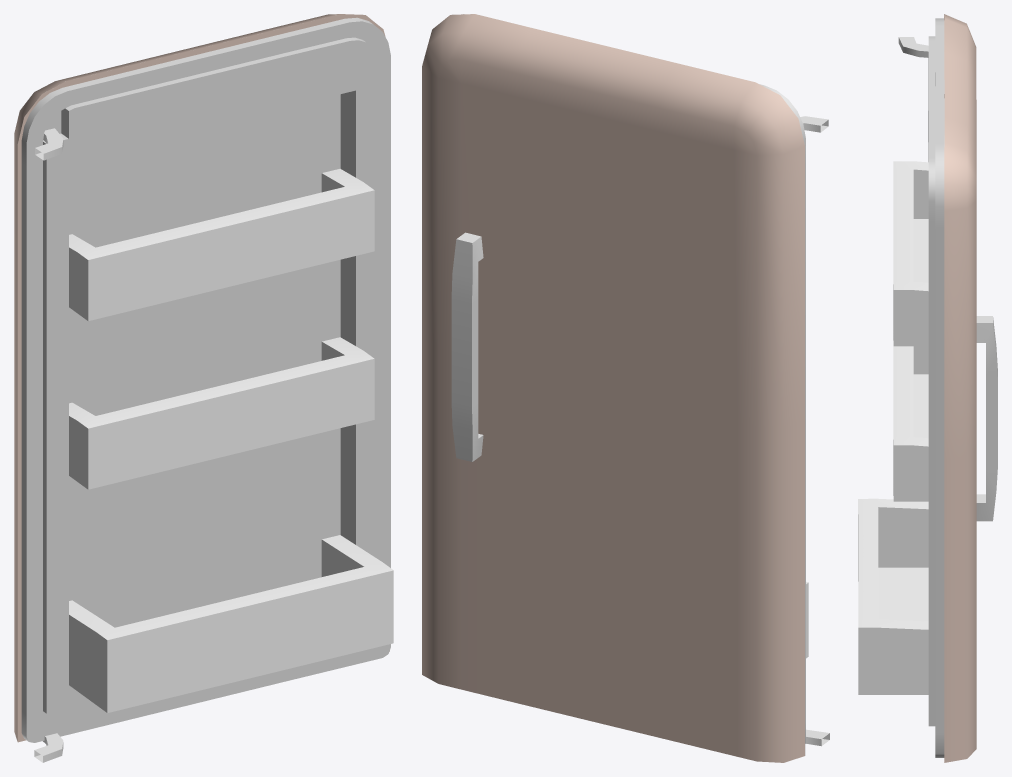
File: FridgeDoor.fbx
The picture shows the model from 3 angles, left to right: view 1: azimuth 30°, elevation 25°; view 2: azimuth 150°, elevation 25°; view 3: azimuth 270°, elevation 25°; orthographic projection. The views are drawn at different scales.
Parts seen in each view (by area): view 1: FridgeDoor; view 2: FridgeDoor; view 3: FridgeDoor.
Part boxes in pixels (x1,y1,x2,y2): FridgeDoor: (14, 14, 393, 762); FridgeDoor: (422, 14, 829, 762); FridgeDoor: (858, 14, 997, 762).
Size of the model in its own units: 66.39 by 111 by 23.4.
